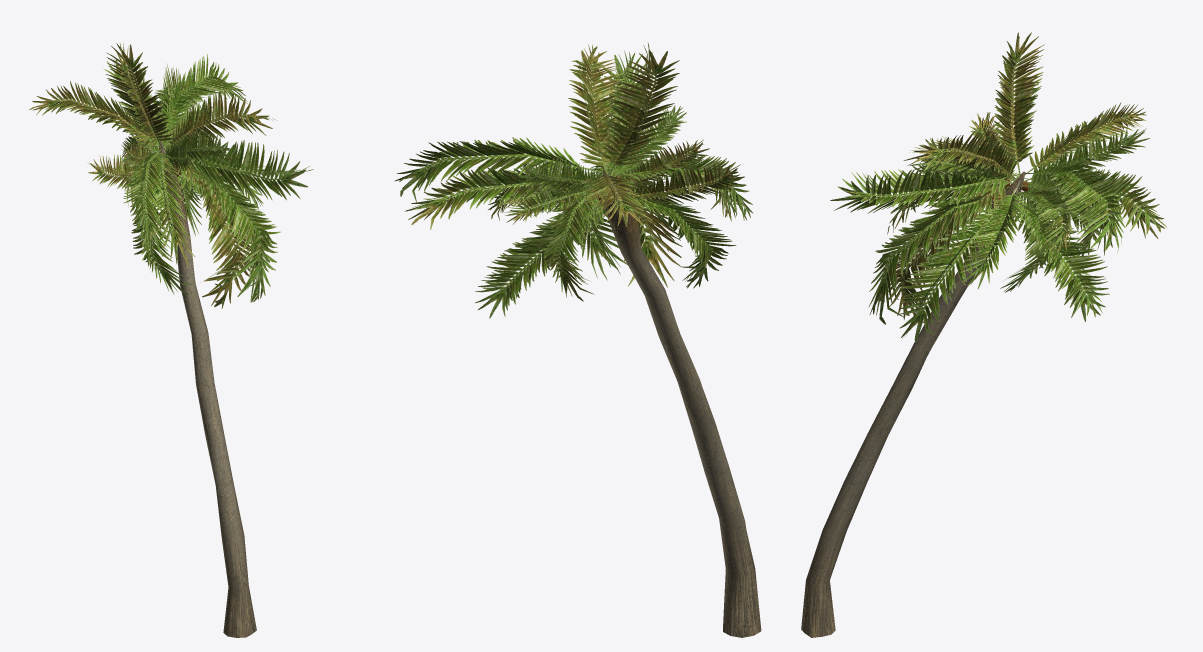
Rendered from coconut_palm3.fbx.
3 renders of one model, left to right at view 1: azimuth 30°, elevation 25°; view 2: azimuth 150°, elevation 25°; view 3: azimuth 270°, elevation 25°, orthographic. The views are drawn at different scales.
Parts seen in each view (by area): view 1: coconut_palm3_leaves, coconut_palm3_trunk; view 2: coconut_palm3_leaves, coconut_palm3_trunk; view 3: coconut_palm3_leaves, coconut_palm3_trunk.
Boxes of the visible parts, bbox=[...] form: coconut_palm3_leaves: bbox=[29, 42, 313, 308]; coconut_palm3_trunk: bbox=[157, 141, 256, 637]; coconut_palm3_leaves: bbox=[394, 42, 753, 318]; coconut_palm3_trunk: bbox=[602, 171, 761, 637]; coconut_palm3_leaves: bbox=[830, 32, 1166, 342]; coconut_palm3_trunk: bbox=[801, 171, 1025, 637].
Size of the model in its own units: 280 by 600 by 351.
